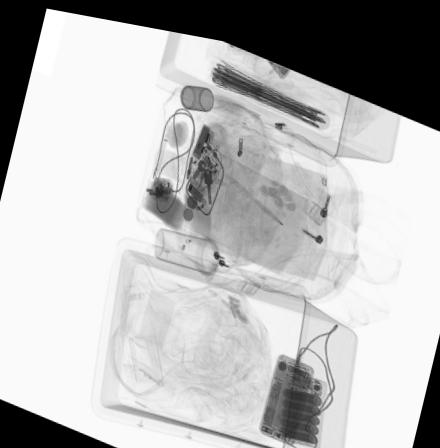Powerbank: (277, 363, 325, 435)
